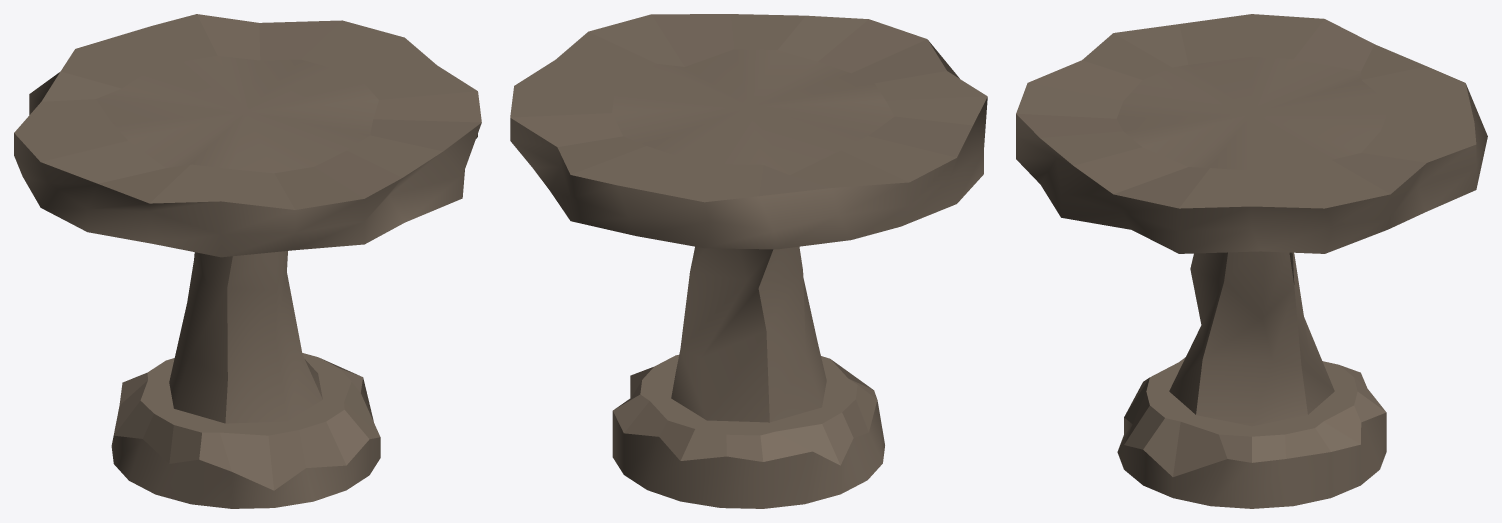
The model's file is TableRoundBasicBroken.glb.
3 views of the same model, side by side, from view 1: azimuth 30°, elevation 25°; view 2: azimuth 150°, elevation 25°; view 3: azimuth 270°, elevation 25° (orthographic).
Parts seen in each view (by area): view 1: table, stand, pole; view 2: table, stand, pole; view 3: table, stand, pole.
Part boxes in pixels (left/top/right/bottom): table: left=14, top=14, right=481, bottom=257; stand: left=111, top=353, right=380, bottom=508; pole: left=169, top=251, right=322, bottom=423; table: left=510, top=14, right=987, bottom=249; stand: left=612, top=355, right=884, bottom=508; pole: left=671, top=246, right=826, bottom=422; table: left=1016, top=14, right=1487, bottom=253; stand: left=1117, top=357, right=1386, bottom=508; pole: left=1169, top=251, right=1334, bottom=426.
Size of the model in its own units: 26.1 by 21.17 by 26.76.
